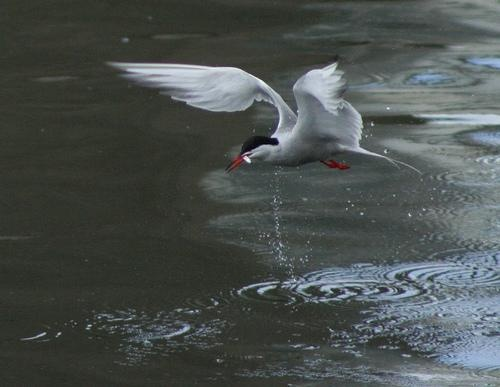bird: (110, 56, 417, 172)
